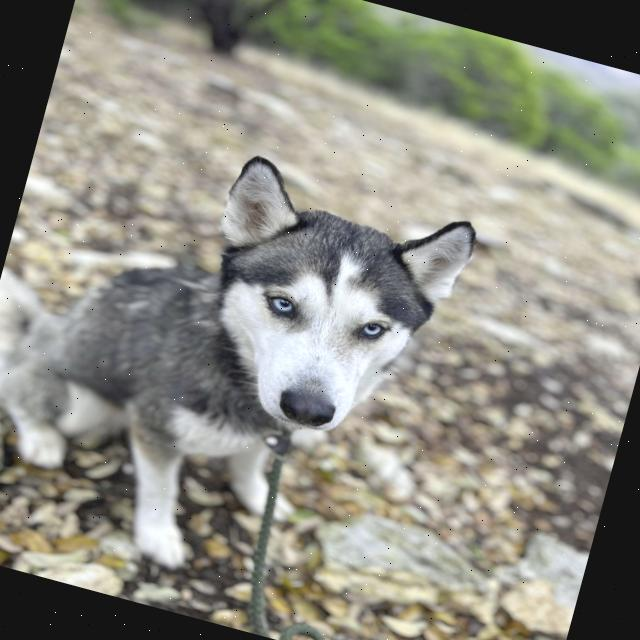siberian_husky_dog: (143, 138, 502, 492)
